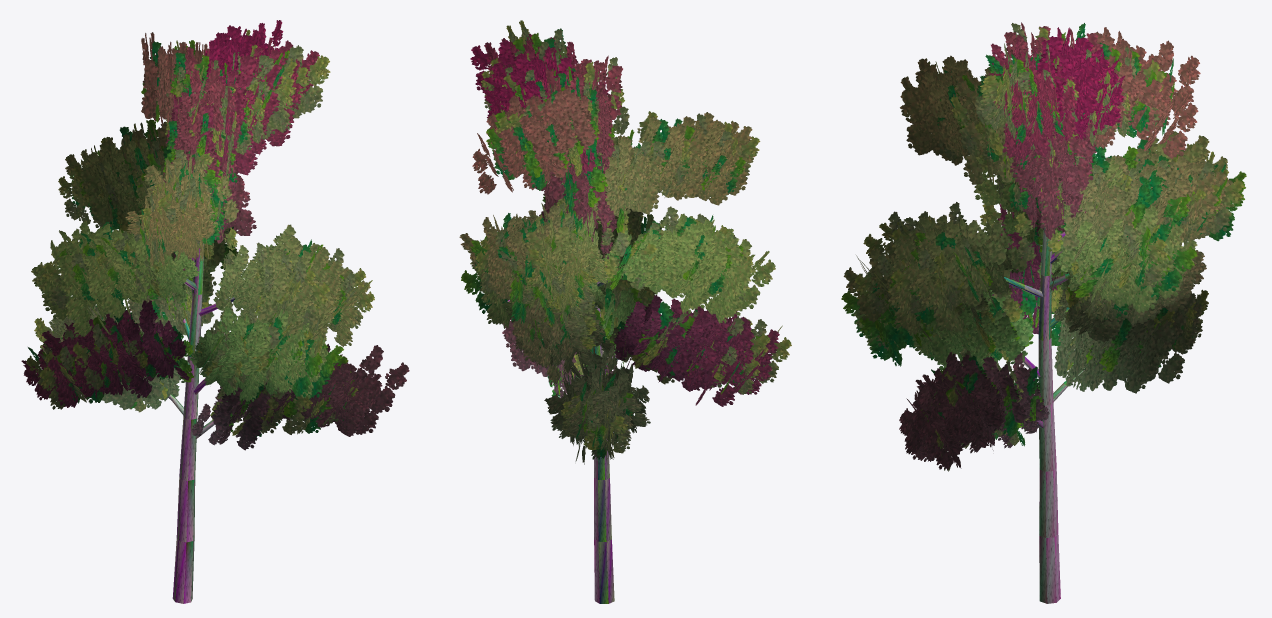
The model's file is nat_birch_c_LOD0.glb.
3 renders of one model, left to right at view 1: azimuth 30°, elevation 25°; view 2: azimuth 150°, elevation 25°; view 3: azimuth 270°, elevation 25°, orthographic. The views are drawn at different scales.
Parts seen in each view (by area): view 1: nat_birch_c_LOD0; view 2: nat_birch_c_LOD0; view 3: nat_birch_c_LOD0.
Boxes of the visible parts, left/top/right/bottom form: nat_birch_c_LOD0: left=21, top=20, right=409, bottom=603; nat_birch_c_LOD0: left=459, top=20, right=791, bottom=603; nat_birch_c_LOD0: left=841, top=22, right=1246, bottom=603.
Bounding box in the file's own units: 6.53 × 10.14 × 6.53.
2 materials, 2 textured.
